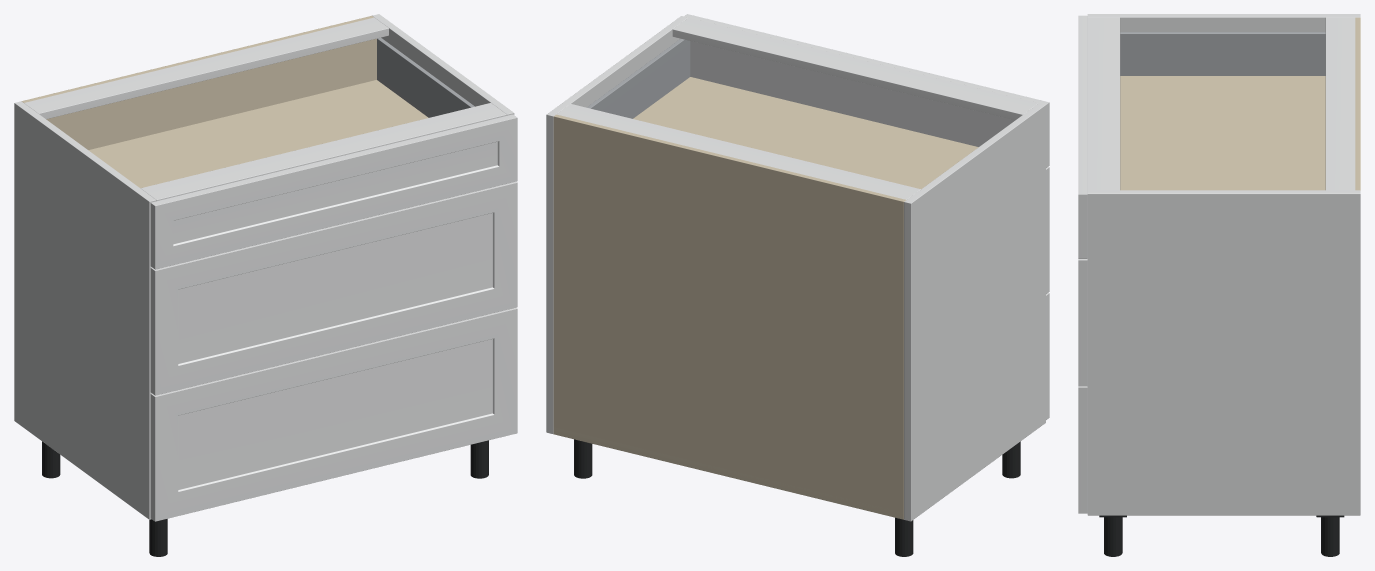
Rendered from PLY-WSS-3DB36.glb.
3 renders of one model, left to right at view 1: azimuth 30°, elevation 25°; view 2: azimuth 150°, elevation 25°; view 3: azimuth 270°, elevation 25°, orthographic.
Visible parts, largest first — view 1: Drawer front, Drawer front.001, Carcass left, Drawer front.002, Drawer bottom.002, Drawer back.002, Top support rail, Top support rail.001, Metal drawer side.005, Carcass right, Carcass back, Adjustable foot.001 (+1 smaller); view 2: Carcass back, Carcass left, Drawer bottom.002, Drawer front.002, Top support rail.001, Top support rail, Carcass right, Metal drawer side.005, Carcass bottom, Adjustable foot, Adjustable foot.002; view 3: Carcass right, Drawer bottom.002, Metal drawer side.004, Top support rail.001, Top support rail, Carcass left, Drawer front.002, Drawer front, Drawer front.001, Carcass back, Adjustable foot.003, Adjustable foot.002.
Boxes of the visible parts, box(x1,y1,x2,y2) form: Drawer front: box(150, 307, 517, 521); Drawer front.001: box(150, 181, 517, 395); Carcass left: box(14, 101, 156, 519); Drawer front.002: box(150, 114, 517, 269); Drawer bottom.002: box(88, 80, 428, 188); Drawer back.002: box(46, 38, 376, 149); Top support rail: box(24, 17, 388, 119); Top support rail.001: box(141, 103, 506, 201); Metal drawer side.005: box(377, 37, 474, 117); Carcass right: box(372, 14, 514, 115); Carcass back: box(21, 15, 373, 102); Adjustable foot.001: box(149, 519, 167, 556); Carcass back: box(553, 114, 905, 519); Carcass left: box(904, 103, 1045, 521); Drawer bottom.002: box(633, 77, 978, 188); Drawer front.002: box(684, 14, 1049, 167); Top support rail.001: box(672, 17, 1038, 120); Top support rail: box(556, 104, 920, 199); Carcass right: box(546, 16, 688, 434); Metal drawer side.005: box(587, 39, 690, 118); Carcass bottom: box(553, 427, 902, 518); Adjustable foot: box(895, 517, 913, 556); Adjustable foot.002: box(574, 439, 592, 478); Carcass right: box(1087, 190, 1360, 515); Drawer bottom.002: box(1120, 76, 1325, 190); Metal drawer side.004: box(1120, 32, 1325, 75); Top support rail.001: box(1087, 17, 1120, 190); Top support rail: box(1325, 17, 1355, 190); Carcass left: box(1087, 14, 1360, 31); Drawer front.002: box(1078, 15, 1087, 258); Drawer front: box(1078, 386, 1087, 513); Drawer front.001: box(1078, 259, 1087, 386); Carcass back: box(1355, 17, 1360, 190); Adjustable foot.003: box(1104, 517, 1122, 556); Adjustable foot.002: box(1321, 517, 1339, 556).
Bounding box in the file's own units: 0.9144 × 0.8763 × 0.6064.
